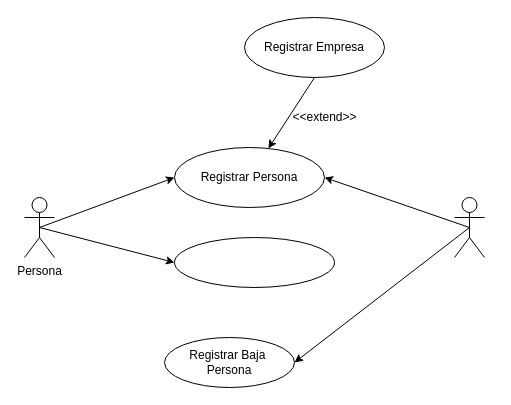
Some shapes in this 511 by 405 pixel diagram are drawn without their labels. Each missing label, with the box of its shape:
Autorizar Ingreso: (174, 236, 334, 288)
Empresa: (454, 196, 484, 258)
